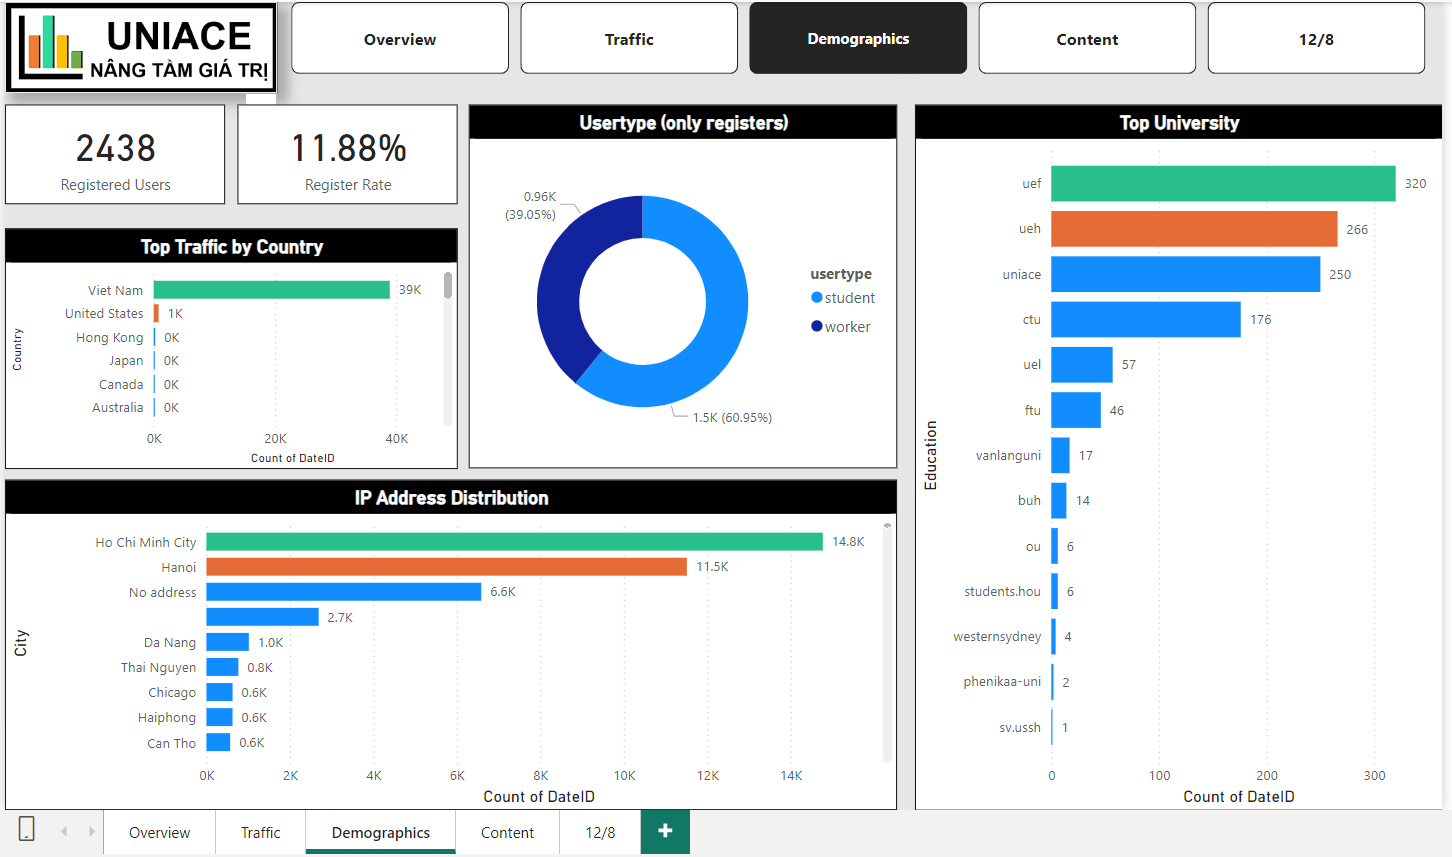

The page's visual inventory and layout, read from the dashboard file:
{"tool":"powerbi","page":{"name":"Demographics","canvas":[1280,720],"ordinal":2},"visuals":[{"type":"image","box":[0,0,242.7,80.9],"z":0},{"type":"pageNavigator","box":[255,0,1014.6,64.4],"z":1000},{"type":"card","fields":{"Values":["seo_analytics.email"]},"box":[0,91.4,195.7,88.6],"z":2000},{"type":"clusteredBarChart","title":"Top Traffic by Country","fields":{"Y":["seo_analytics.DateID"],"Category":["location.Country"]},"box":[0,201.4,402.9,214.3],"z":3000},{"type":"clusteredBarChart","title":"Top University","fields":{"Y":["seo_analytics.DateID"],"Category":["seo_analytics.Education"]},"box":[810,91.4,470,628.6],"z":4000},{"type":"donutChart","title":"Usertype (only registers)","fields":{"Category":["seo_analytics.usertype"],"Y":["seo_analytics.DateID"]},"box":[412.9,91.4,381.4,324.3],"z":5000},{"type":"card","fields":{"Values":["Measure Table.Register Rate"]},"box":[207.1,91.4,195.7,88.6],"z":6000},{"type":"clusteredBarChart","title":"IP Address Distribution","fields":{"Y":["seo_analytics.DateID"],"Category":["location.City"]},"box":[0,425.7,794.3,294.3],"z":7000}]}

Visuals, with their boxes in screenshot pixels (x1, y1, x2, y2):
image: crop(0, 0, 272, 91)
pageNavigator: crop(285, 0, 1420, 72)
card - seo_analytics.email: crop(0, 102, 219, 201)
"Top Traffic by Country" clusteredBarChart: crop(0, 225, 451, 465)
"Top University" clusteredBarChart: crop(906, 102, 1432, 805)
"Usertype (only registers)" donutChart: crop(462, 102, 889, 465)
card - Measure Table.Register Rate: crop(232, 102, 451, 201)
"IP Address Distribution" clusteredBarChart: crop(0, 476, 889, 805)
